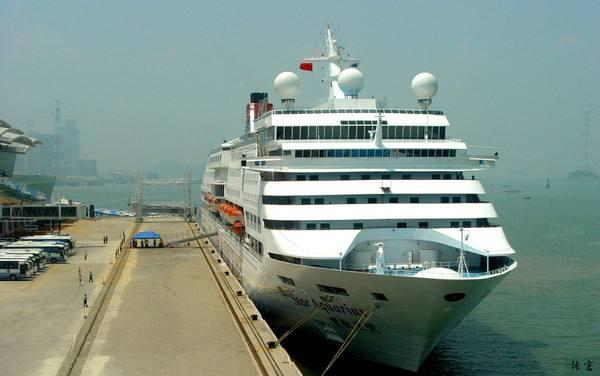youlun: (193, 26, 520, 372)
